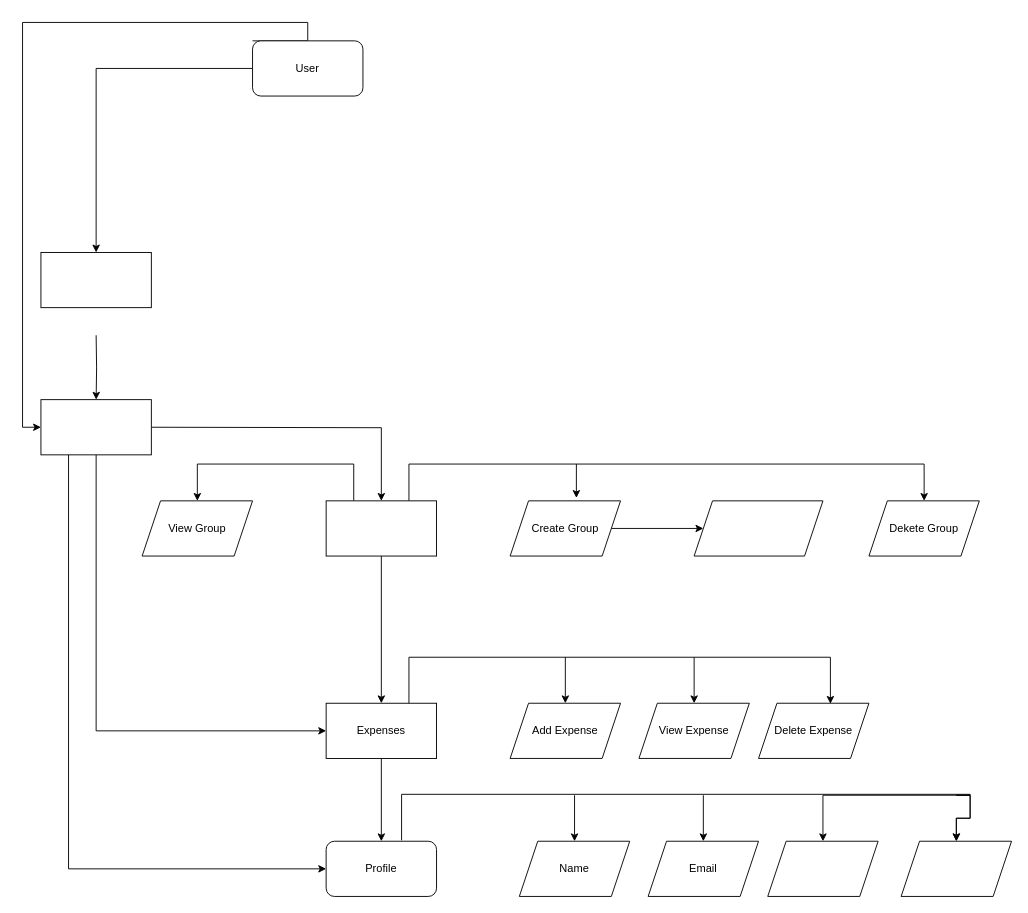
Image size: 1028x913. Some labels were removed from this diagram. Here are the shapes that lost their labels. From the top down, the box of each, then its label:
(40, 252, 151, 308): Sign Up
(40, 399, 151, 455): Login
(325, 500, 437, 556): Groups
(693, 500, 823, 556): Add Group member
(767, 840, 878, 896): Password
(900, 840, 1012, 896): Log Out
